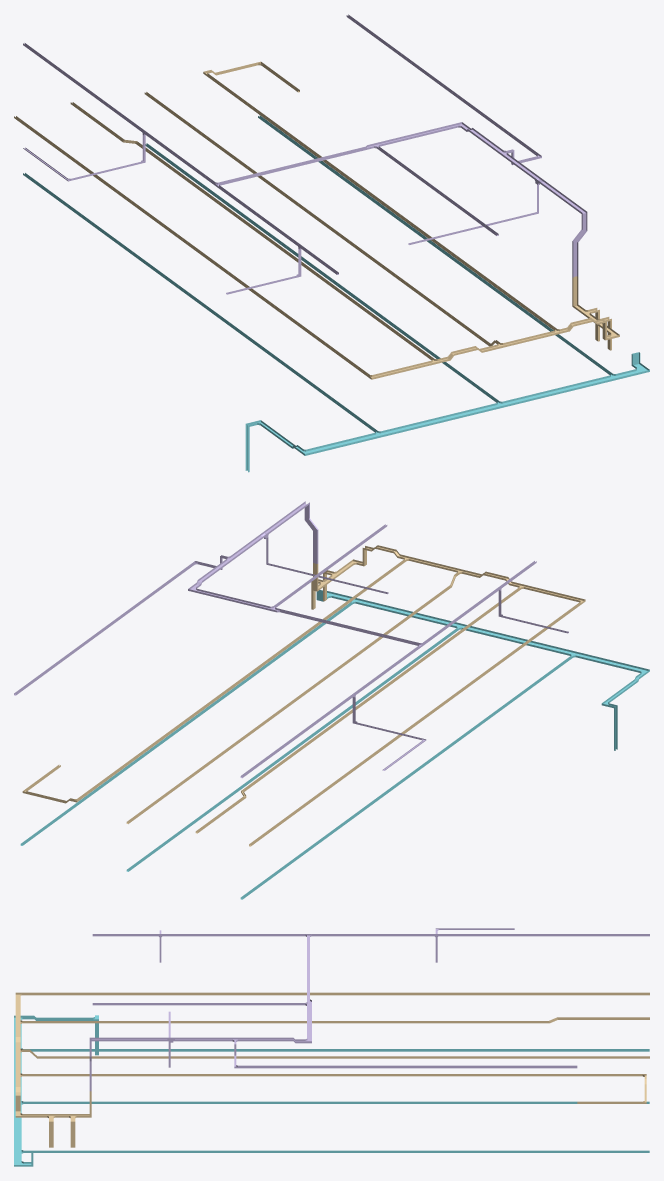
The model's file is 三层桥架.glb.
3 views of the same model, one above another, from view 1: azimuth 30°, elevation 25°; view 2: azimuth 150°, elevation 25°; view 3: azimuth 270°, elevation 25° (orthographic). The views are drawn at different scales.
Visible parts, largest first — view 1: L1-S-37BFC, L2-S-37BFF, L1-S-37C44, L2-S-37C69, L1-S-37C46, L2-S-37EB9, L2-S-37EC6, L3-S-37EF1, L1-S-37C3E, L1-S-37C3F; view 2: L1-S-37BFC, L1-S-37C44, L2-S-37BFF, L1-S-37C46, L2-S-37C69, L2-S-37EB9, L2-S-37EC6, L3-S-37EF1, L1-S-37C3E, L1-S-37C3F; view 3: L2-S-37BFF, L1-S-37C46, L1-S-37BFC, L2-S-37C69, L2-S-37EB9, L1-S-37C44, L2-S-37EC6, L3-S-37EF1, L3-S-37C6F, L3-S-37C20, L3-S-37BE6, L3-S-37C1F.
Boxes of the visible parts, left/top/right/bottom form: L1-S-37BFC: left=23, top=173, right=377, bottom=432; L2-S-37BFF: left=14, top=116, right=369, bottom=376; L1-S-37C44: left=145, top=143, right=498, bottom=402; L2-S-37C69: left=206, top=74, right=556, bottom=330; L1-S-37C46: left=258, top=115, right=612, bottom=375; L2-S-37EB9: left=144, top=92, right=490, bottom=346; L2-S-37EC6: left=136, top=142, right=433, bottom=360; L3-S-37EF1: left=346, top=14, right=538, bottom=155; L1-S-37C3E: left=384, top=404, right=497, bottom=435; L1-S-37C3F: left=506, top=376, right=610, bottom=405; L1-S-37BFC: left=240, top=656, right=572, bottom=899; L1-S-37C44: left=126, top=628, right=458, bottom=871; L2-S-37BFF: left=249, top=602, right=581, bottom=846; L1-S-37C46: left=20, top=602, right=352, bottom=845; L2-S-37C69: left=78, top=559, right=405, bottom=799; L2-S-37EB9: left=126, top=585, right=451, bottom=823; L2-S-37EC6: left=242, top=587, right=520, bottom=791; L3-S-37EF1: left=14, top=563, right=193, bottom=695; L1-S-37C3E: left=466, top=626, right=571, bottom=654; L1-S-37C3F: left=359, top=600, right=457, bottom=627; L2-S-37BFF: left=23, top=992, right=649, bottom=995; L1-S-37C46: left=24, top=1150, right=649, bottom=1152; L1-S-37BFC: left=25, top=1049, right=649, bottom=1051; L2-S-37C69: left=23, top=1074, right=640, bottom=1076; L2-S-37EB9: left=37, top=1056, right=649, bottom=1058; L1-S-37C44: left=24, top=1101, right=649, bottom=1103; L2-S-37EC6: left=23, top=1021, right=547, bottom=1023; L3-S-37EF1: left=240, top=1065, right=577, bottom=1068; L3-S-37C6F: left=92, top=1003, right=304, bottom=1005; L3-S-37C20: left=440, top=934, right=649, bottom=936; L3-S-37BE6: left=164, top=934, right=304, bottom=936; L3-S-37C1F: left=313, top=934, right=432, bottom=936.
Bounding box in the file's own units: 39.66 × 18.4 × 66.13.
